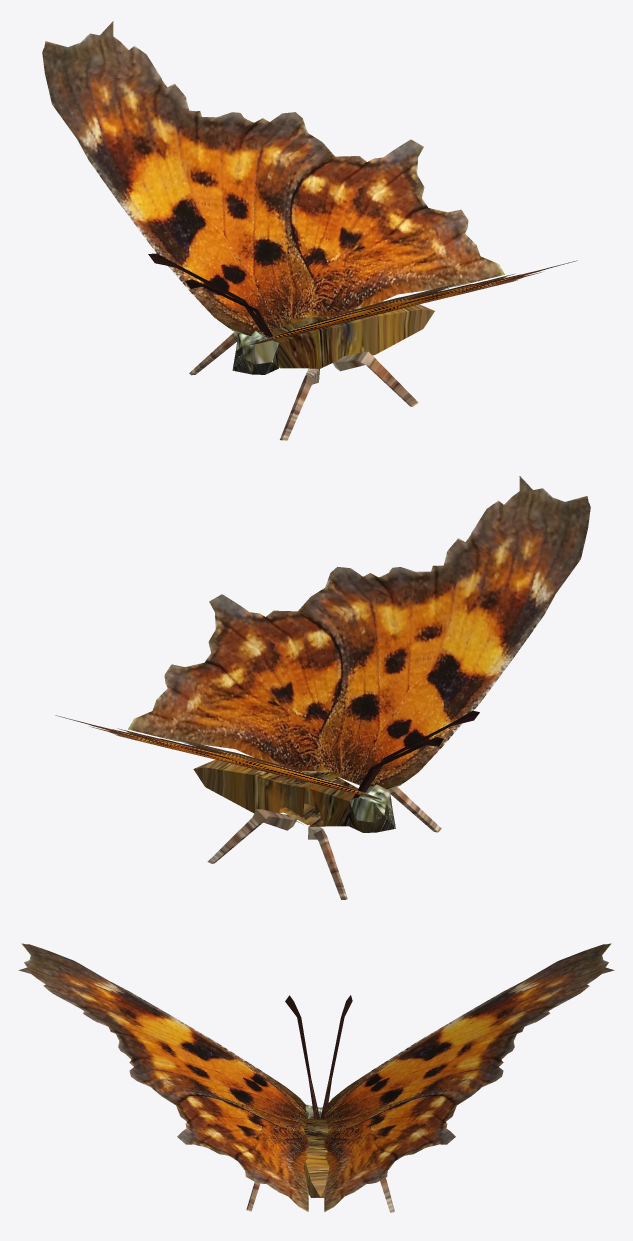
The model's file is Butterfly.fbx.
3 renders of one model, top to bottom at view 1: azimuth 30°, elevation 25°; view 2: azimuth 150°, elevation 25°; view 3: azimuth 270°, elevation 25°, orthographic. The views are drawn at different scales.
Parts seen in each view (by area): view 1: Rwing, Butterfly_LOD0, Lwing; view 2: Lwing, Butterfly_LOD0, Rwing; view 3: Lwing, Rwing, Butterfly_LOD0.
Boxes of the visible parts, x1,y1,x2,y2 form: Rwing: (42, 21, 504, 335); Butterfly_LOD0: (148, 253, 434, 440); Lwing: (251, 260, 577, 344); Lwing: (128, 476, 590, 789); Butterfly_LOD0: (193, 710, 479, 899); Rwing: (55, 715, 381, 799); Lwing: (18, 943, 308, 1211); Rwing: (324, 943, 614, 1211); Butterfly_LOD0: (246, 995, 394, 1212).
Size of what is drawn, in the model's own units: 37.22 by 23.63 by 61.69.
